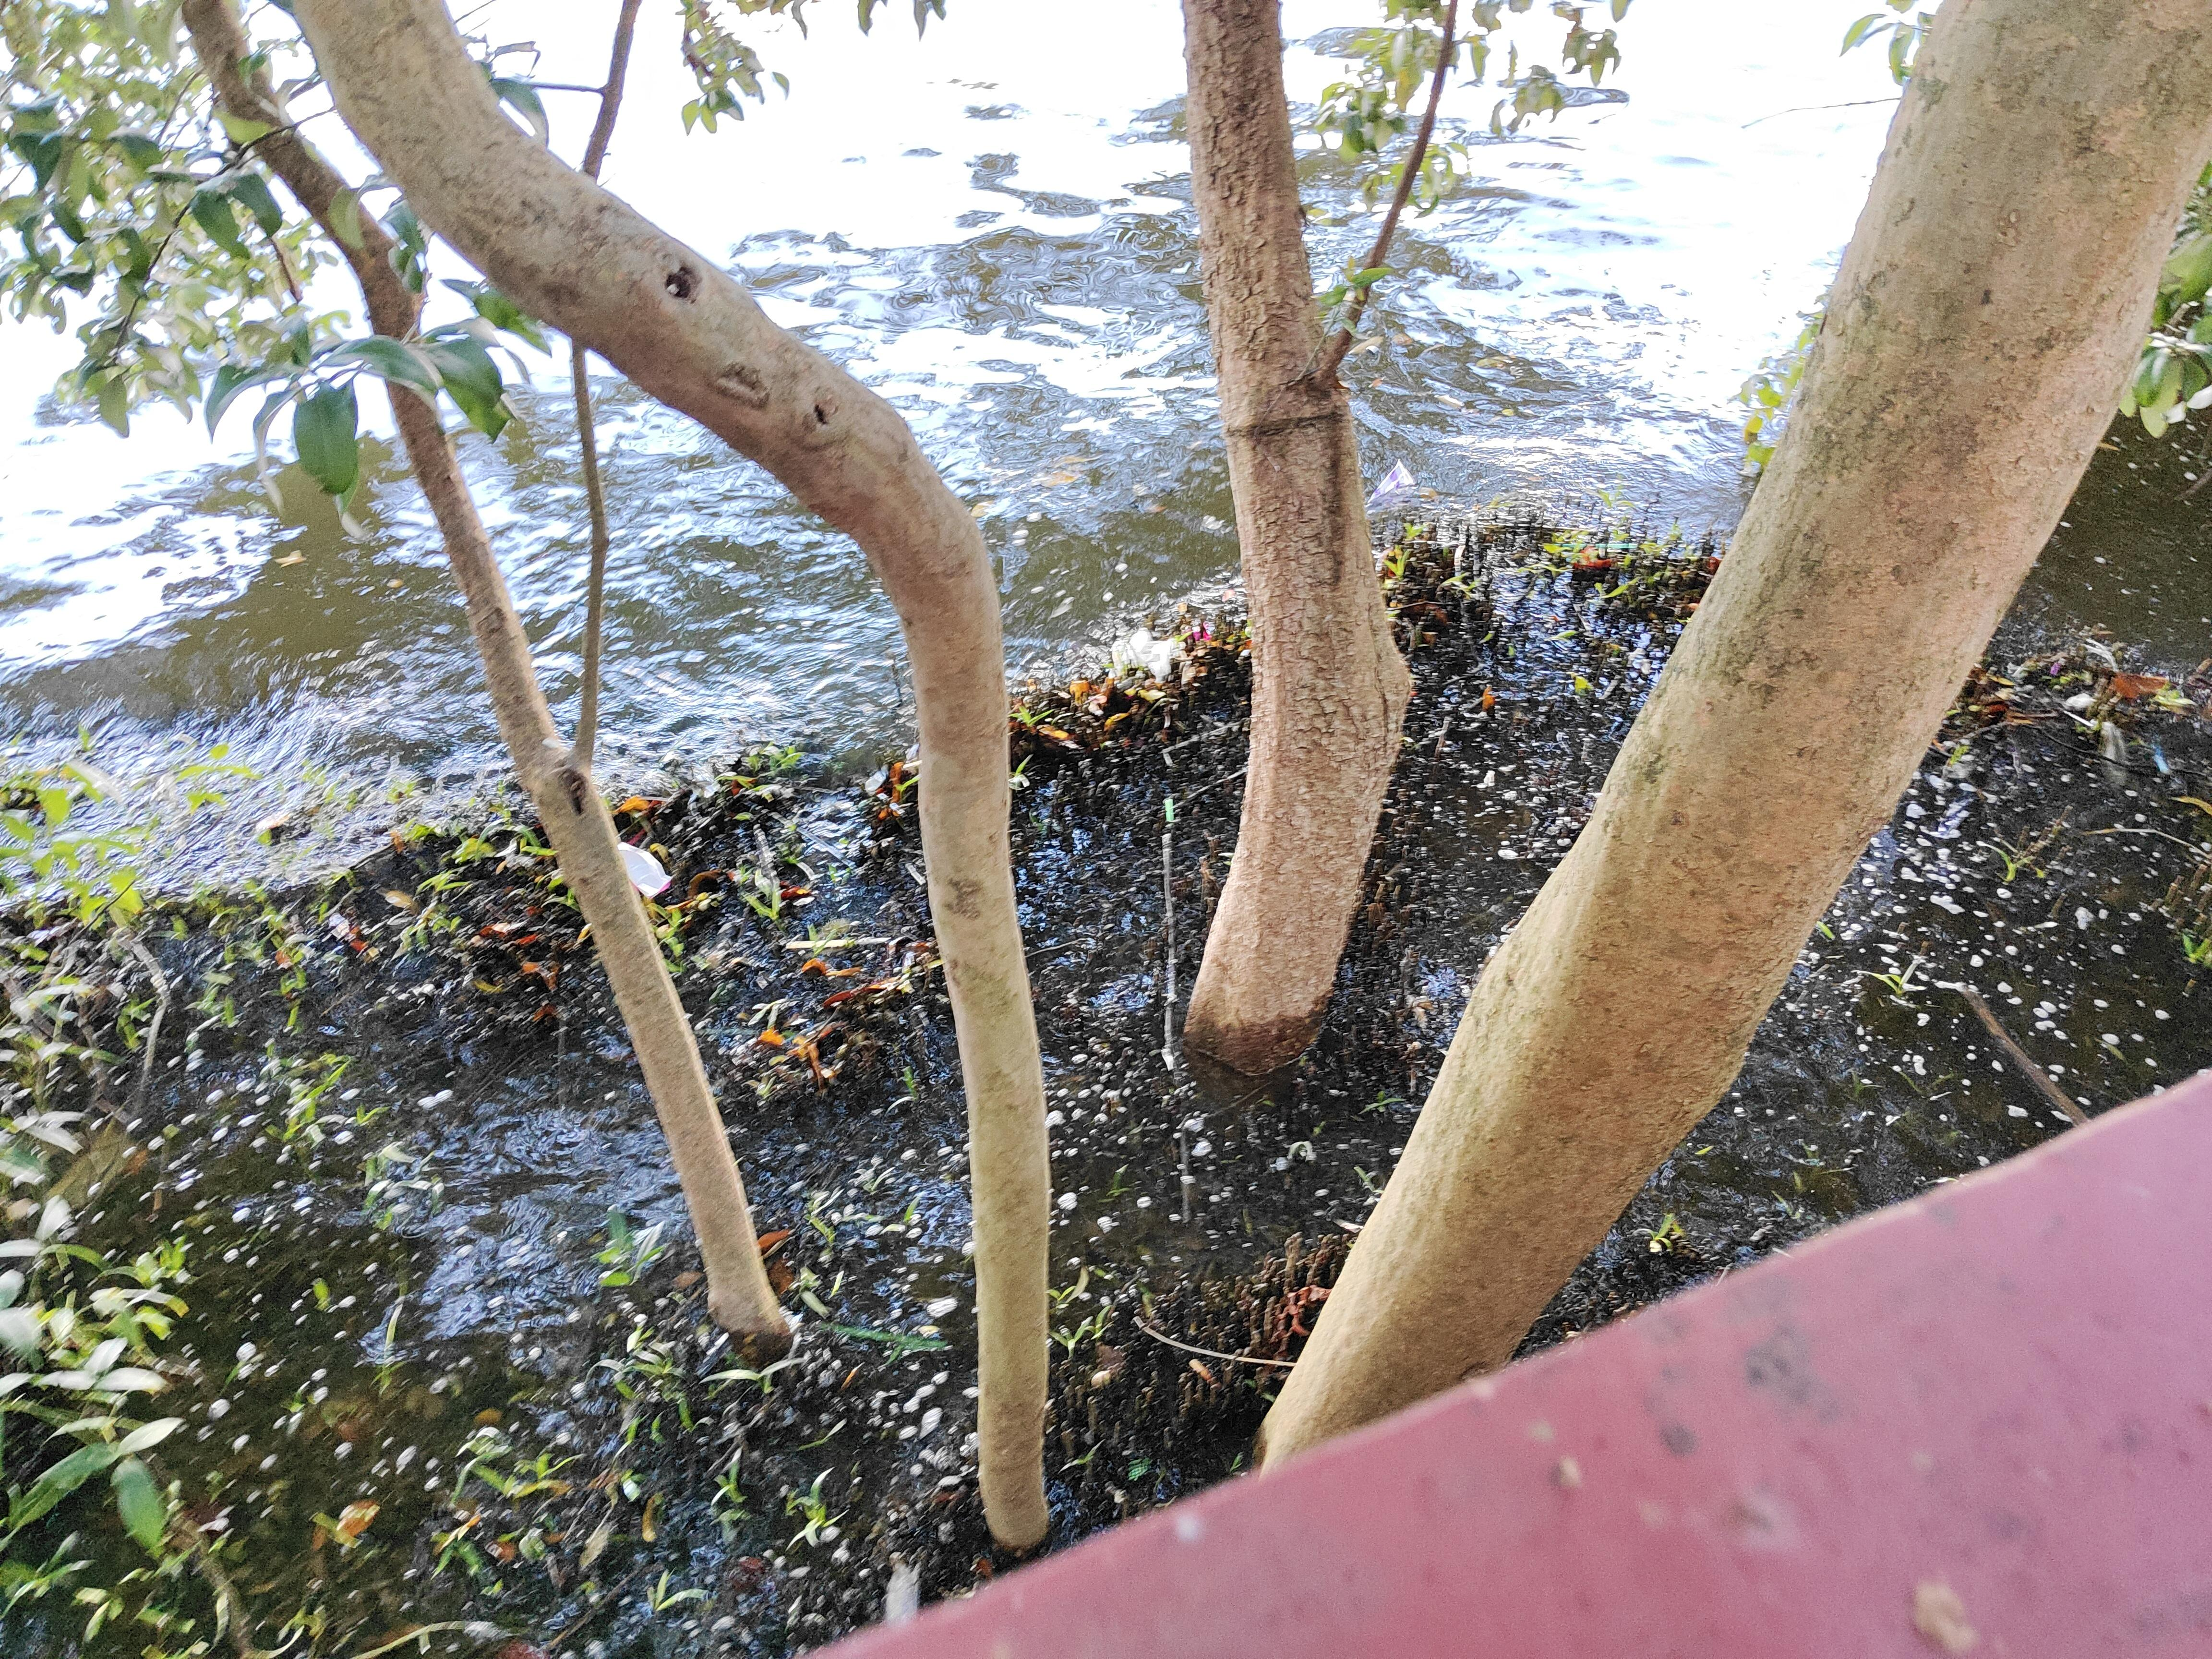Mangrove_Trunk: (1258, 12, 2212, 1469), (303, 0, 1073, 1553), (190, 9, 777, 1345), (1177, 5, 1411, 1065)
